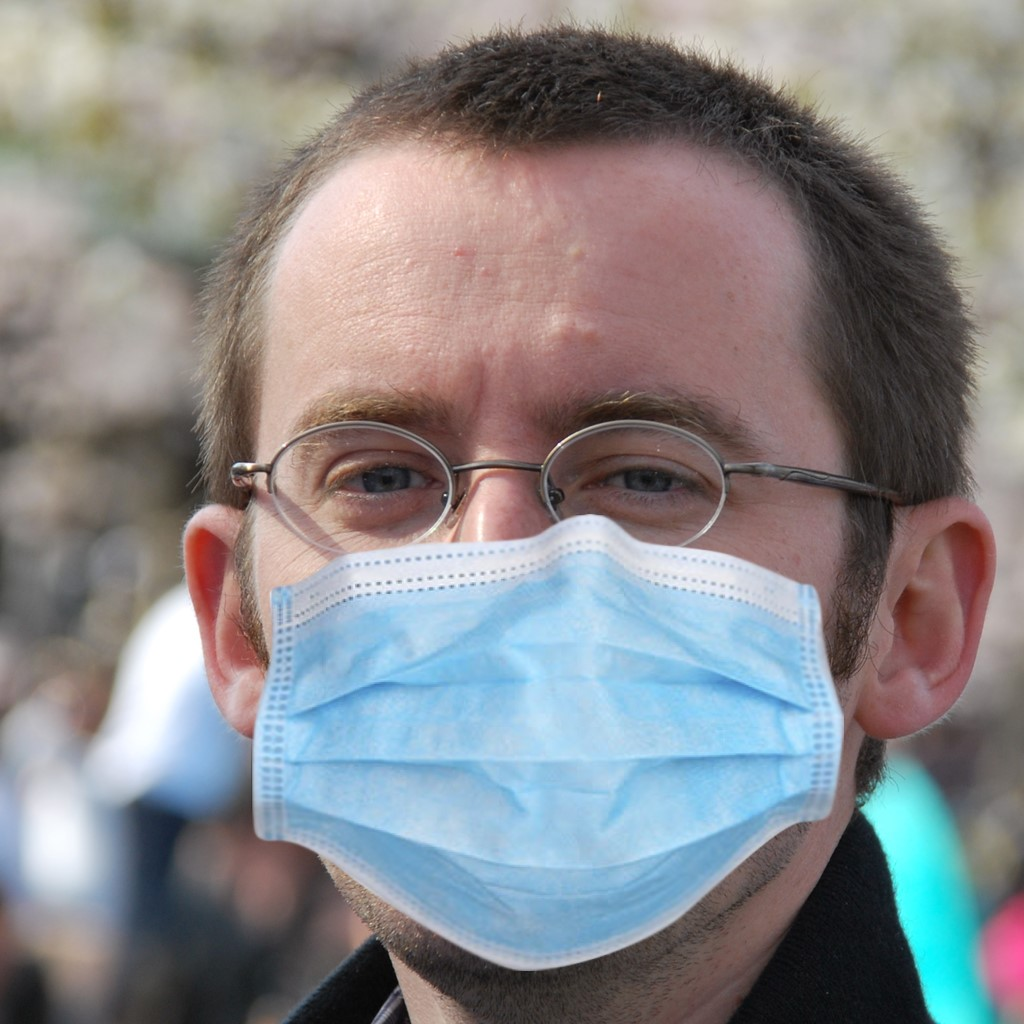con_mascara: (206, 90, 904, 972)
